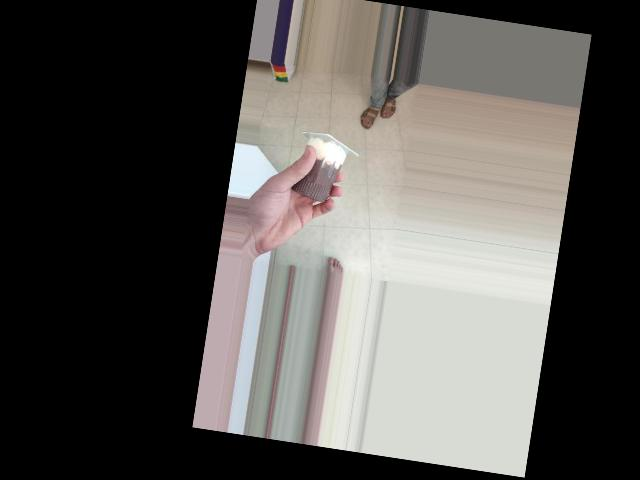milky: (287, 128, 353, 213)
